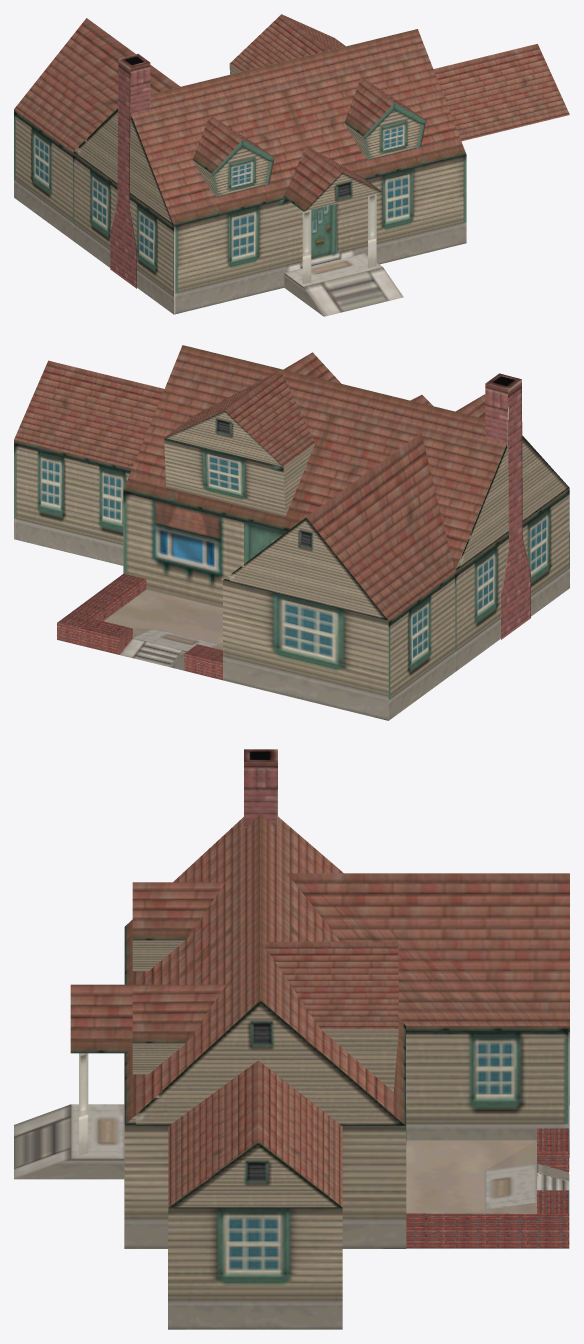
The model's file is JHOUSE.glb.
3 views of the same model, one above another, from view 1: azimuth 30°, elevation 25°; view 2: azimuth 150°, elevation 25°; view 3: azimuth 270°, elevation 25° (orthographic). The views are drawn at different scales.
Parts seen in each view (by area): view 1: JHOUSE; view 2: JHOUSE; view 3: JHOUSE.
Boxes of the visible parts, <box> form: JHOUSE: <box>14,14,569,316</box>; JHOUSE: <box>14,345,569,720</box>; JHOUSE: <box>14,749,569,1329</box>.
Bounding box in the file's own units: 2402 × 1200 × 2010.
Materials: 5 (5 with a texture image).
